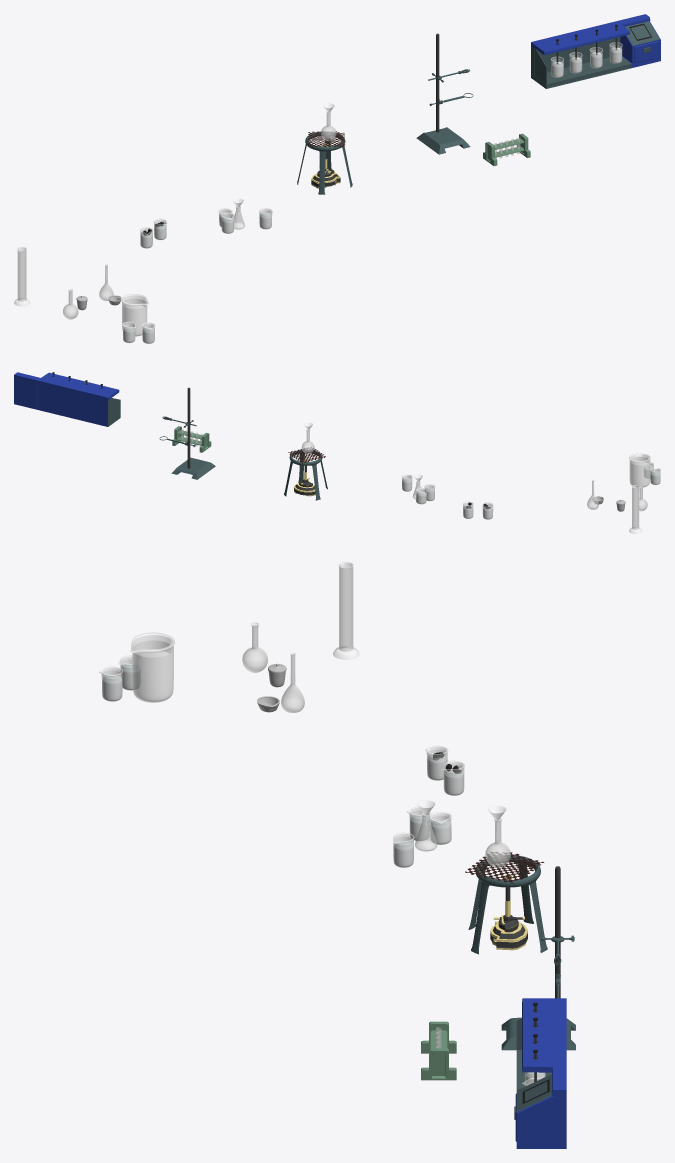
The model's file is Juego de quimica .fbx.
3 views of the same model, one above another, from view 1: azimuth 30°, elevation 25°; view 2: azimuth 150°, elevation 25°; view 3: azimuth 270°, elevation 25° (orthographic). The views are drawn at different scales.
Visible parts, largest first — view 1: Object_87.001, Object_26, Object_32, Object_79, Object_41, Object_47; view 2: Object_87.001, Object_26, Object_32, Object_79, Object_41, Object_47; view 3: Object_87.001, Object_26, Object_79, Object_41, Object_32, Object_47.
Part boxes in pixels (bbox=[...]): Object_87.001: bbox=[531, 14, 660, 88]; Object_26: bbox=[297, 103, 352, 194]; Object_32: bbox=[416, 33, 473, 154]; Object_79: bbox=[121, 294, 149, 336]; Object_41: bbox=[483, 133, 530, 166]; Object_47: bbox=[14, 247, 30, 306]; Object_87.001: bbox=[14, 372, 120, 426]; Object_26: bbox=[284, 423, 327, 500]; Object_32: bbox=[159, 387, 215, 479]; Object_79: bbox=[629, 454, 650, 487]; Object_41: bbox=[172, 426, 211, 452]; Object_47: bbox=[629, 485, 641, 533]; Object_87.001: bbox=[514, 998, 566, 1148]; Object_26: bbox=[465, 805, 547, 954]; Object_79: bbox=[130, 632, 174, 702]; Object_41: bbox=[421, 1021, 456, 1080]; Object_32: bbox=[501, 866, 575, 1050]; Object_47: bbox=[333, 562, 359, 659].
Size of the model in its own units: 263 by 38.53 by 95.11.
